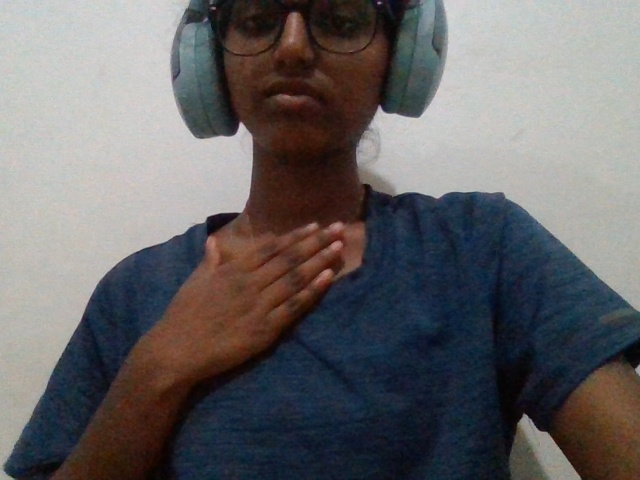Please: (105, 214, 406, 411)
